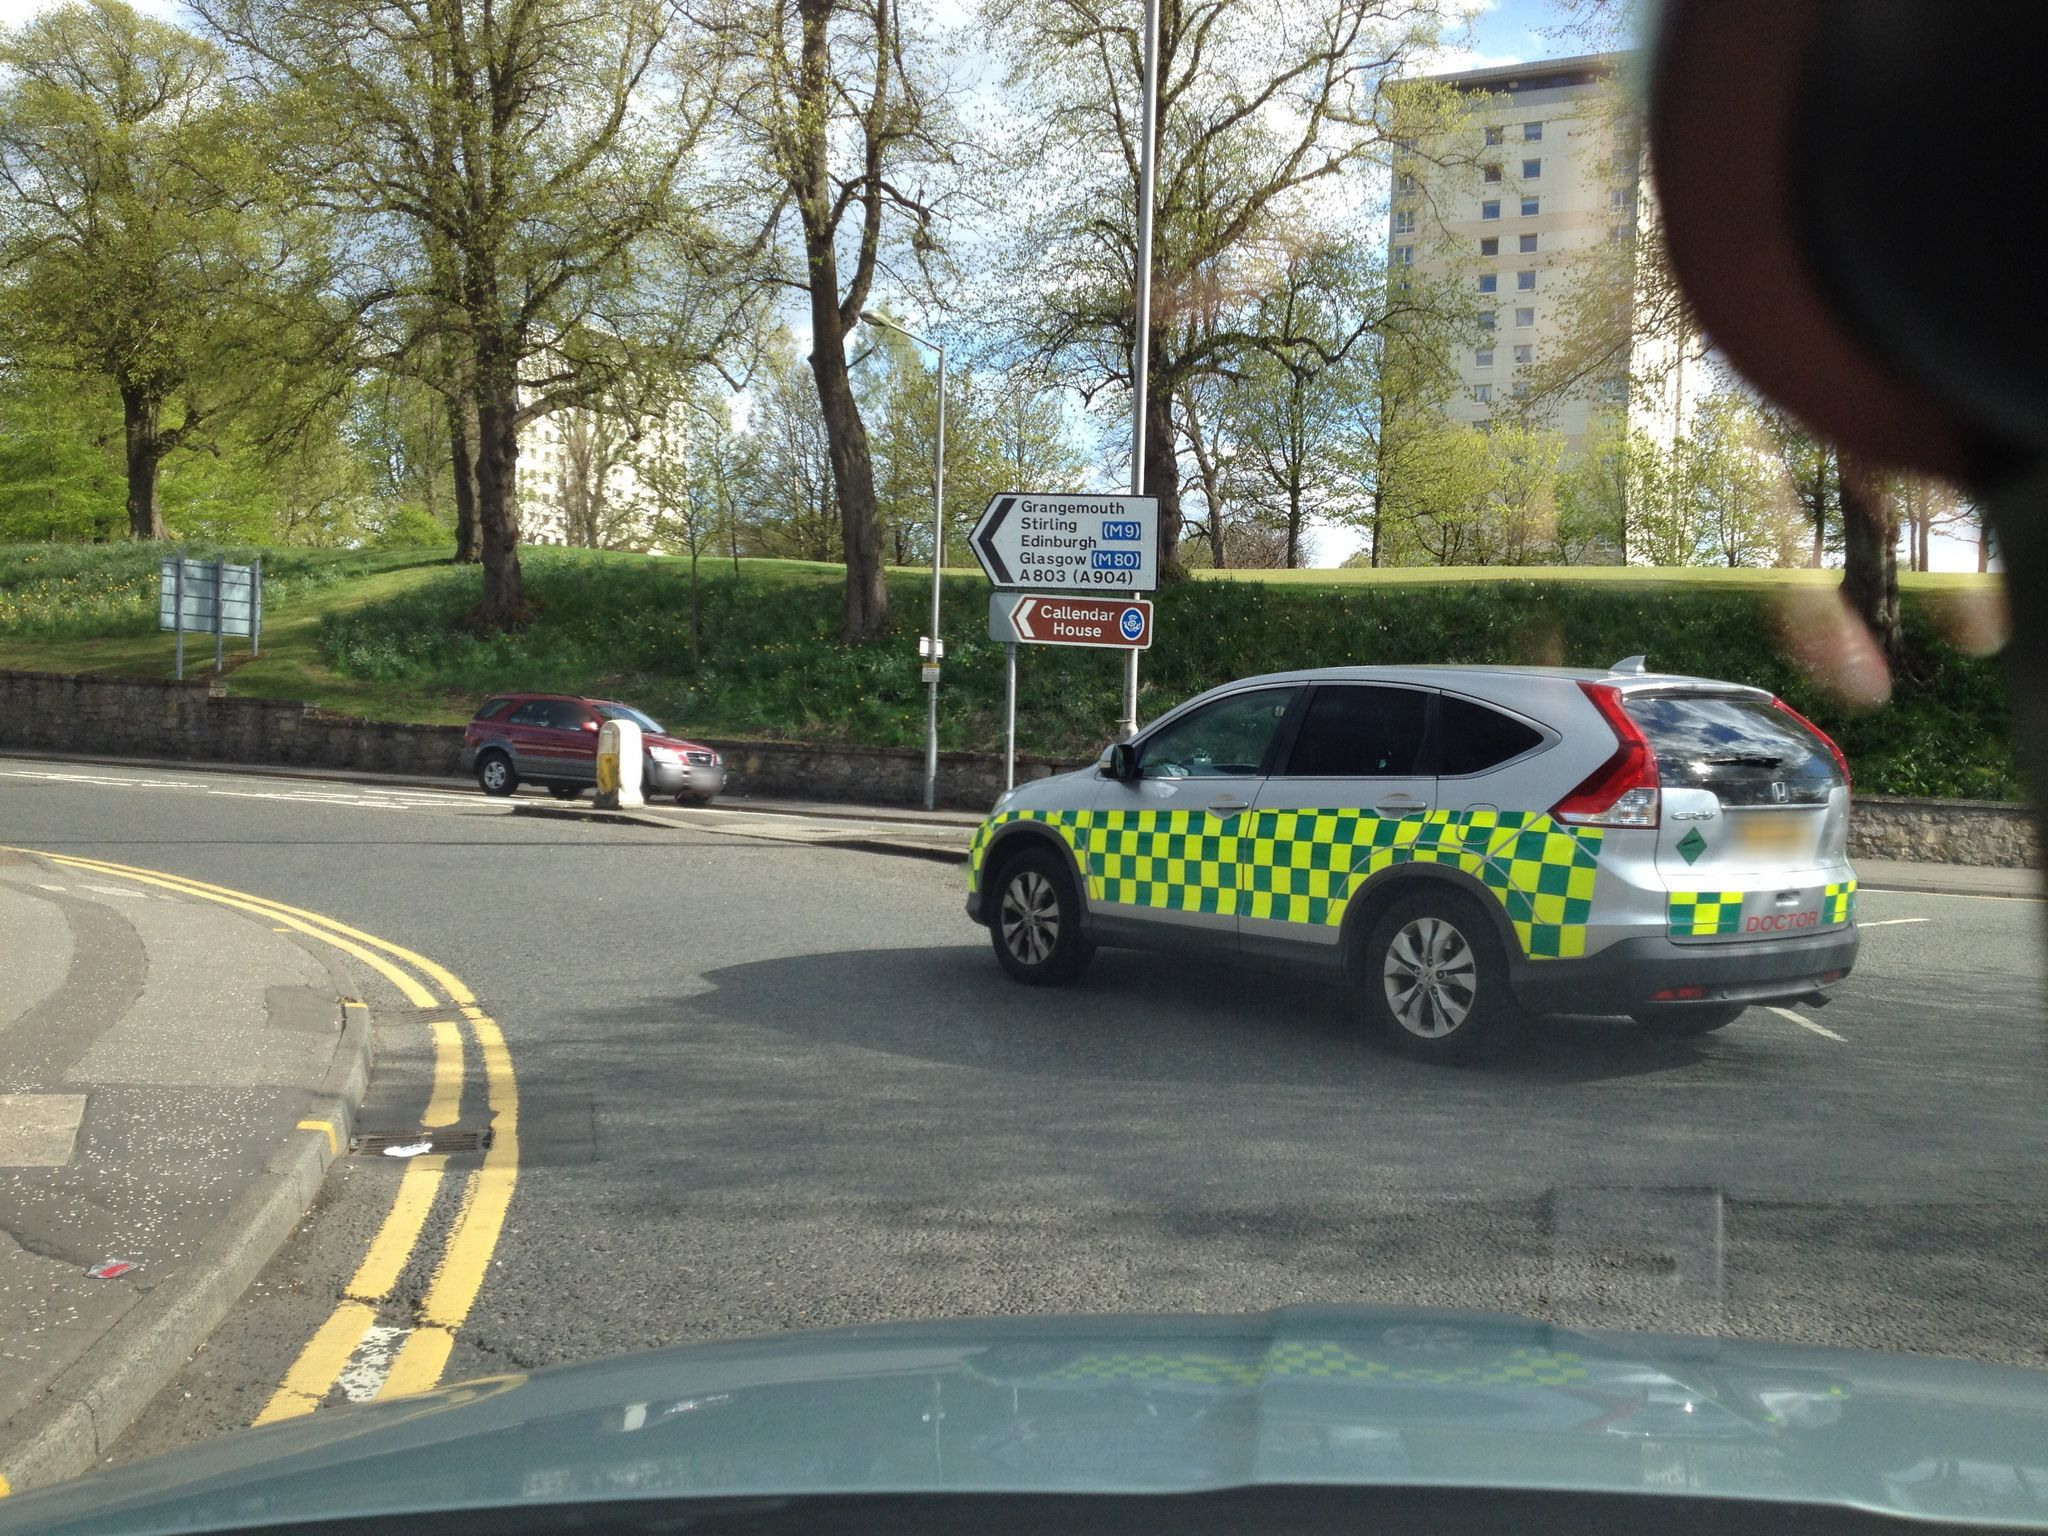car: (958, 655, 1863, 1066), (460, 691, 731, 808)
